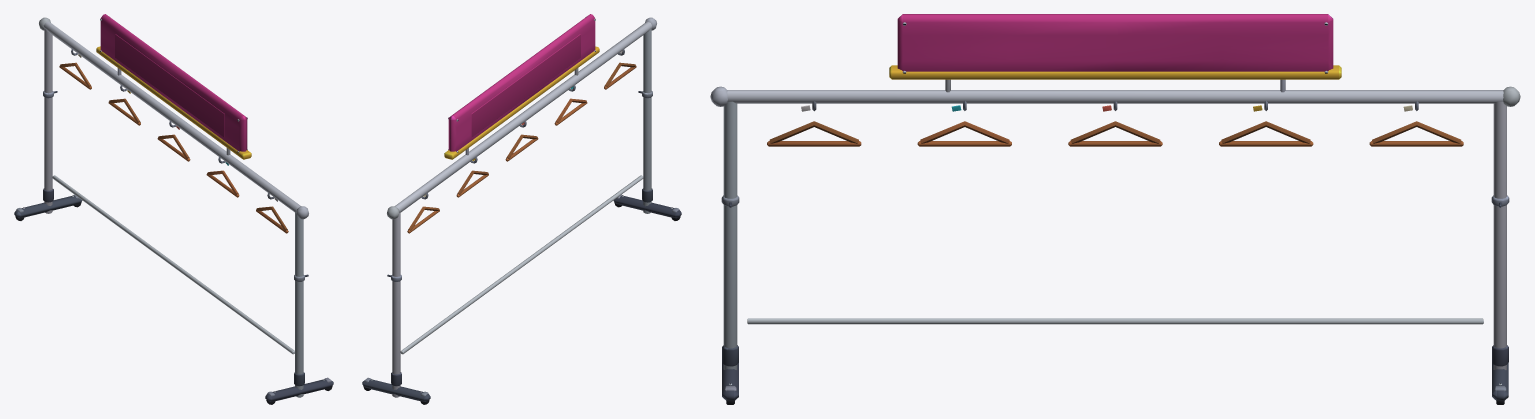
Rendered from SM_Wardrobe_CostumeRack.fbx.
3 renders of one model, left to right at view 1: azimuth 30°, elevation 25°; view 2: azimuth 150°, elevation 25°; view 3: azimuth 270°, elevation 25°, orthographic. The views are drawn at different scales.
Parts seen in each view (by area): view 1: SM_Wardrobe_CostumeRack; view 2: SM_Wardrobe_CostumeRack; view 3: SM_Wardrobe_CostumeRack.
Boxes of the visible parts, <box> form: SM_Wardrobe_CostumeRack: <box>14,14,333,404</box>; SM_Wardrobe_CostumeRack: <box>362,14,681,404</box>; SM_Wardrobe_CostumeRack: <box>710,14,1520,404</box>.
Size of the model in its own units: 70.11 by 243 by 484.
